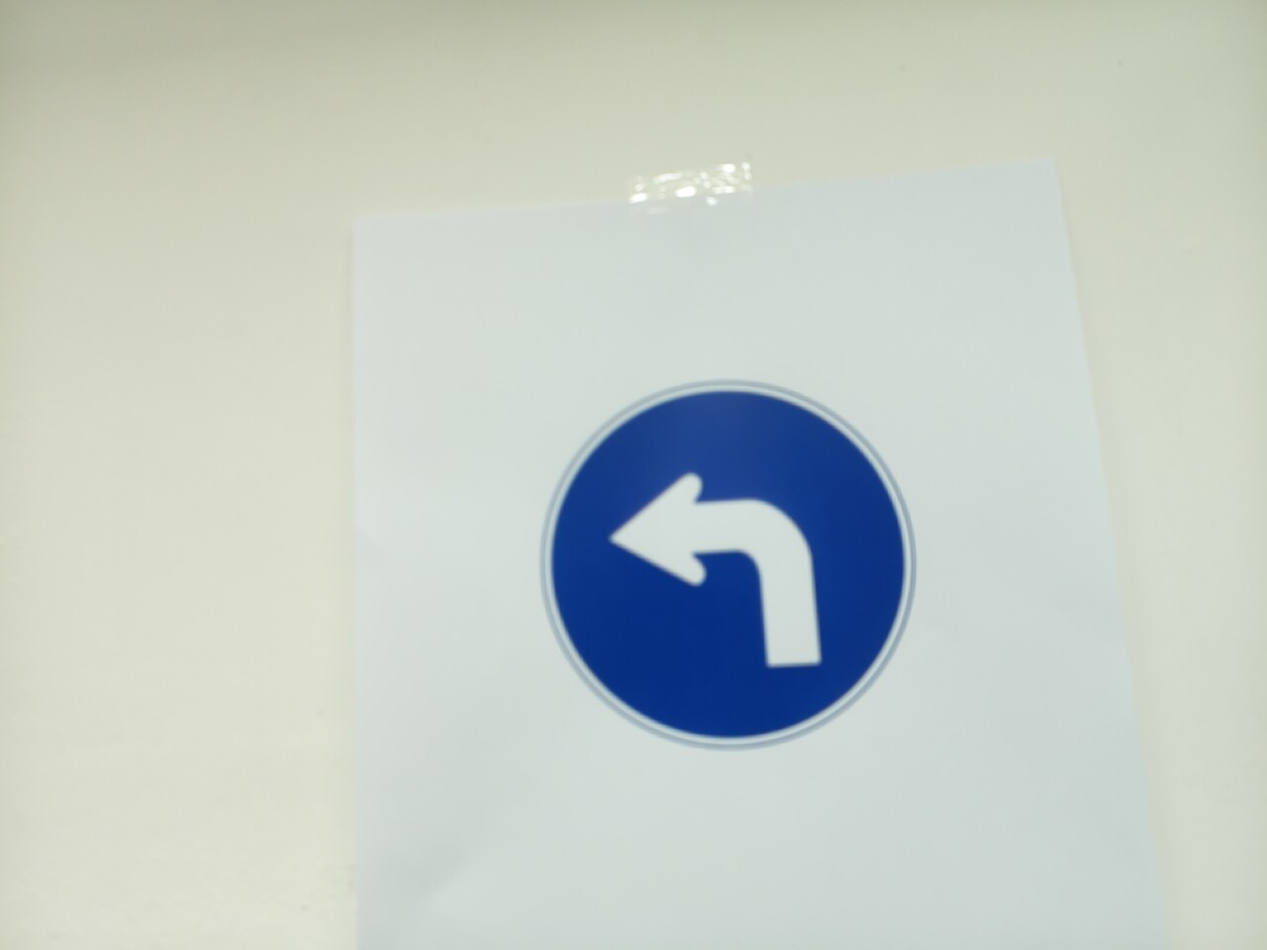left_turn: (540, 380, 916, 749)
